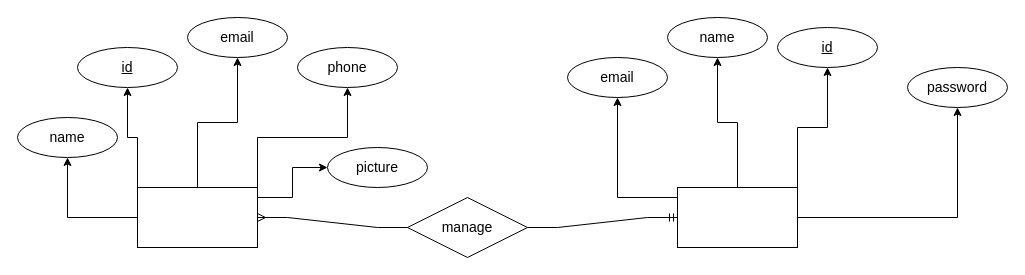
This 1025x275 diagram has some shape labels left out. Each missing label, with the centre of its shape:
"employee" goes at point (197, 217).
"manager" goes at point (737, 217).
